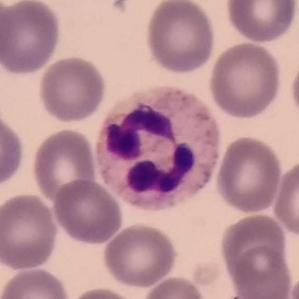Neutrophil: (90, 83, 226, 221)
RBC: (207, 40, 284, 120), (213, 134, 284, 215), (142, 0, 218, 75), (100, 221, 180, 289), (29, 126, 98, 204), (217, 212, 289, 286), (51, 177, 125, 246), (36, 54, 108, 124), (0, 0, 63, 77), (0, 191, 60, 271), (228, 244, 294, 298), (223, 0, 299, 44), (0, 265, 71, 299), (271, 157, 299, 239), (0, 109, 27, 192), (141, 274, 208, 299), (64, 285, 139, 299), (287, 50, 299, 127), (287, 272, 299, 299)
